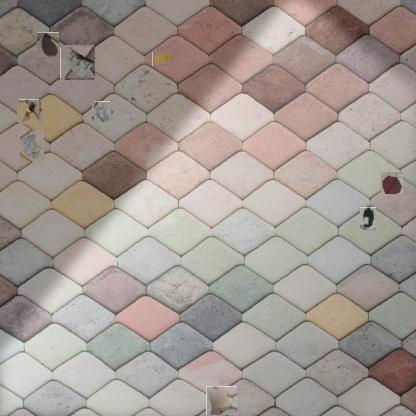dirty: (61, 46, 95, 79), (206, 386, 237, 415), (20, 130, 44, 162), (18, 101, 41, 123), (93, 102, 112, 122), (360, 207, 376, 230), (152, 52, 173, 66)
liquid: (37, 32, 59, 57), (382, 172, 404, 194)
